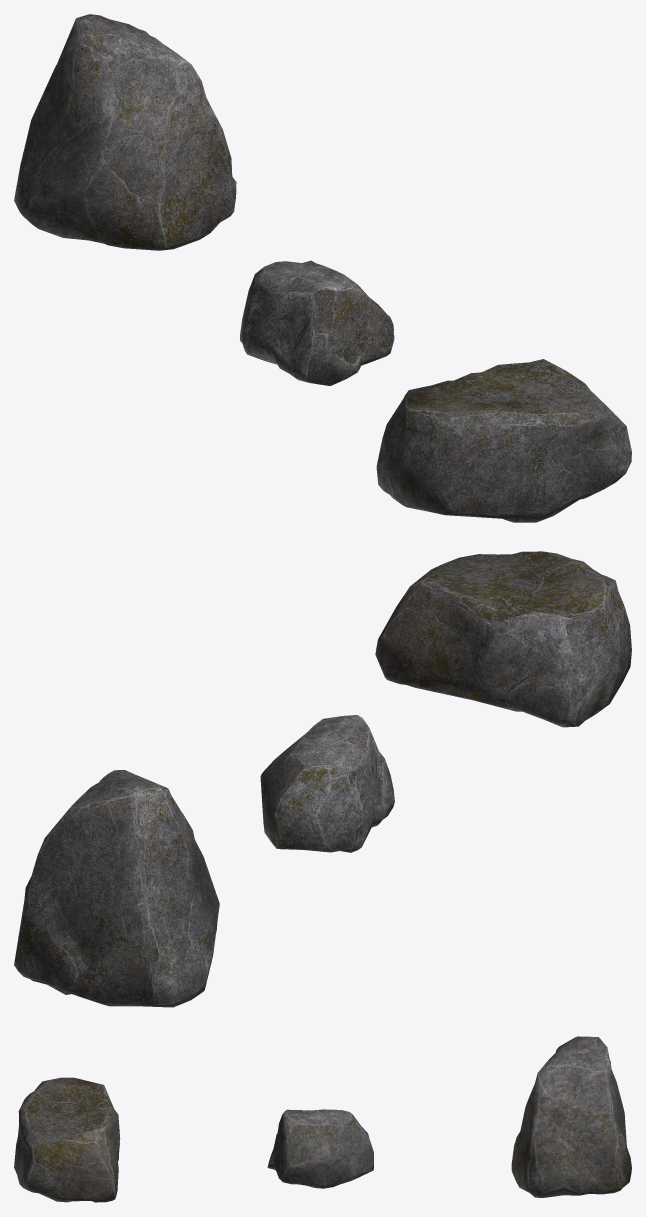
The model's file is stones.glb.
3 renders of one model, top to bottom at view 1: azimuth 30°, elevation 25°; view 2: azimuth 150°, elevation 25°; view 3: azimuth 270°, elevation 25°, orthographic. The views are drawn at different scales.
Parts seen in each view (by area): view 1: stone_big_2, stone_big_1, stone_big_3; view 2: stone_big_2, stone_big_1, stone_big_3; view 3: stone_big_2, stone_big_1, stone_big_3.
Part boxes in pixels (x1,y1,x2,y2): stone_big_2: (14,14,236,250); stone_big_1: (376,359,631,522); stone_big_3: (240,260,394,385); stone_big_2: (14,770,219,1007); stone_big_1: (375,551,631,727); stone_big_3: (260,715,394,852); stone_big_2: (511,1036,631,1197); stone_big_1: (14,1077,120,1202); stone_big_3: (267,1109,373,1188).
Size of the model in its own units: 7.71 by 7.28 by 30.02.
1 material, 1 textured.
